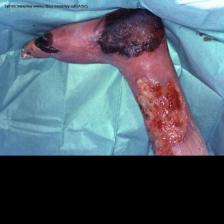Wound: (127, 79, 195, 156), (96, 9, 166, 62), (34, 31, 62, 55)
